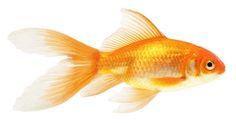goldfish: (51, 23, 230, 106)
